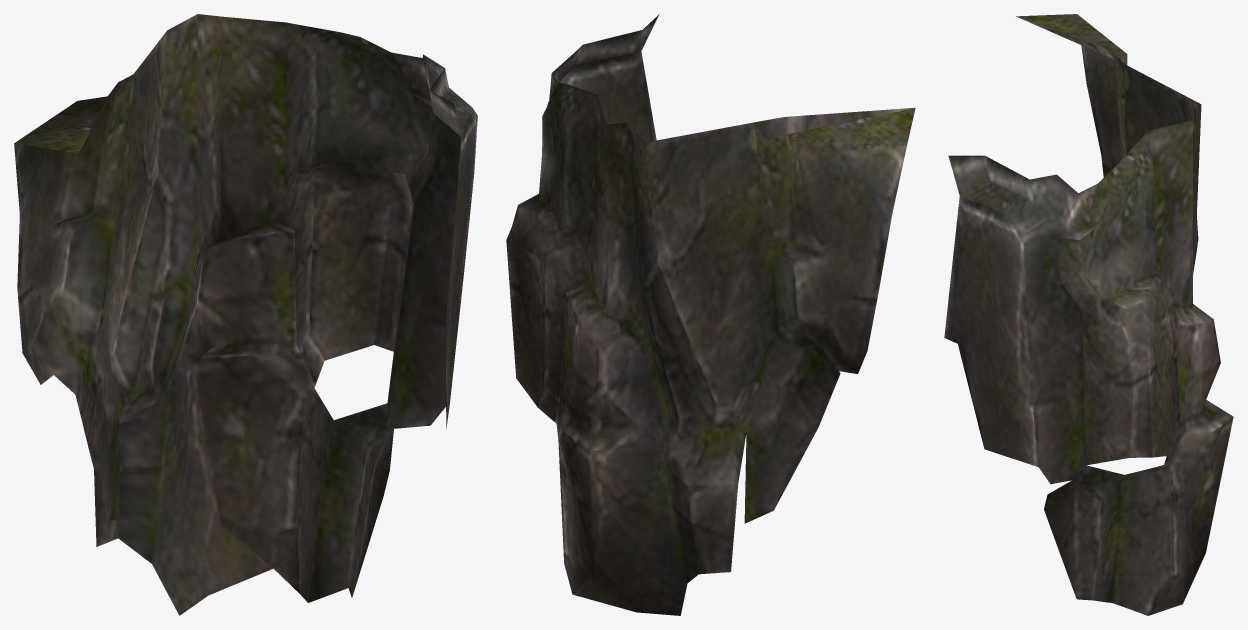
File: S2_Build_XSC077_H1.FBX
3 renders of one model, left to right at view 1: azimuth 30°, elevation 25°; view 2: azimuth 150°, elevation 25°; view 3: azimuth 270°, elevation 25°, orthographic. The views are drawn at different scales.
Visible parts, largest first — view 1: S2_Build_XSC077_H1; view 2: S2_Build_XSC077_H1; view 3: S2_Build_XSC077_H1.
Part boxes in pixels (box(x1,y1,x2,y2)): S2_Build_XSC077_H1: box(14, 14, 477, 615); S2_Build_XSC077_H1: box(506, 14, 915, 615); S2_Build_XSC077_H1: box(944, 14, 1233, 615).
Bounding box in the file's own units: 1605 × 2057 × 1117.
